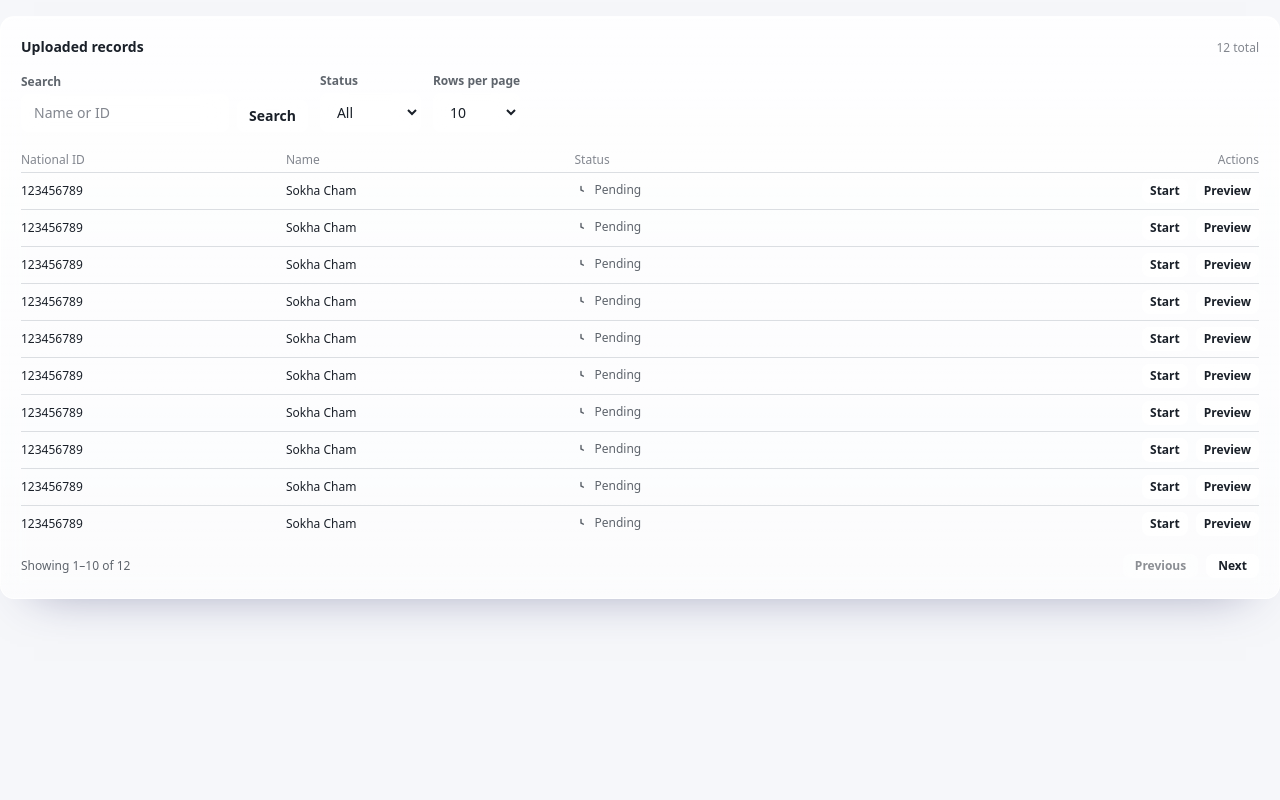
Test: UploadedRecordsList › never offers a page past the last one
This screenshot has width=1280, height=800.
Expected: the text "Showing 1–10 of 12" is shown, [21, 558, 130, 574]
Click the button "Next": point(1233, 566) [1206, 554, 1259, 578]
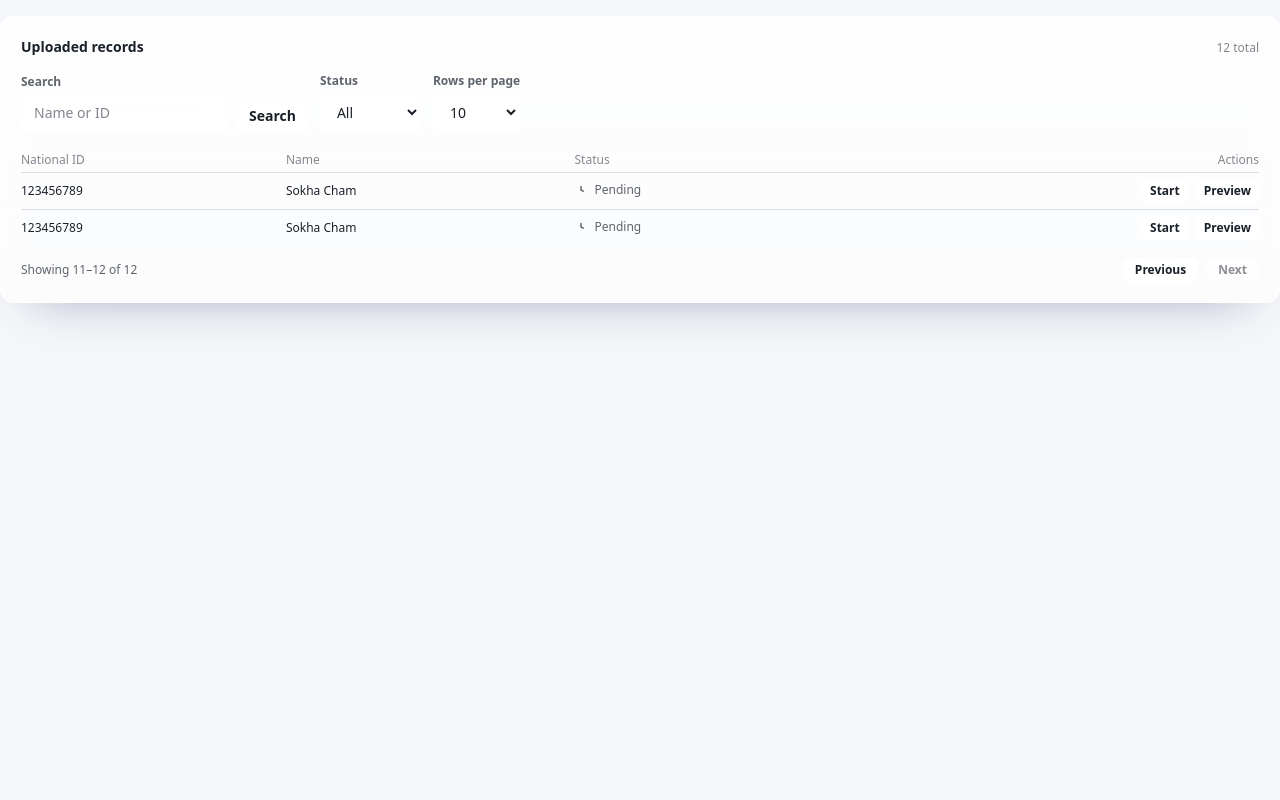
Now the text "Showing 11–12 of 12" is shown, box [21, 262, 137, 278]
Now the button "Next" is disabled, box [1206, 258, 1259, 282]
